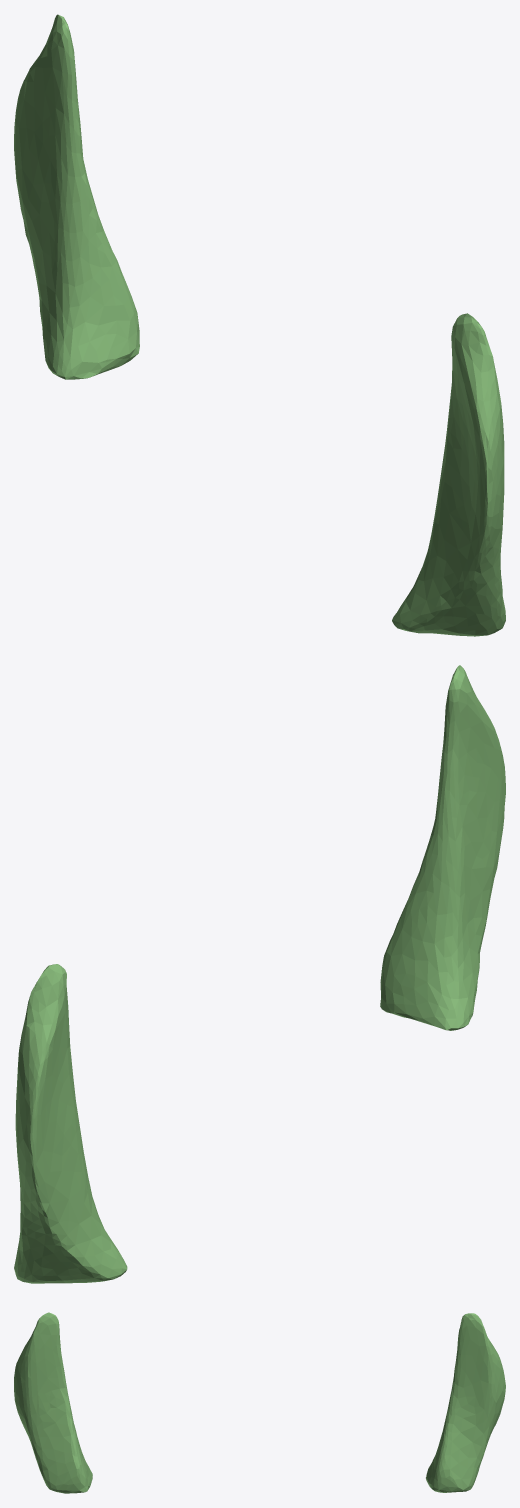
3 renders of one model, top to bottom at view 1: azimuth 30°, elevation 25°; view 2: azimuth 150°, elevation 25°; view 3: azimuth 270°, elevation 25°, orthographic. The views are drawn at different scales.
Visible parts, largest first — view 1: 1084.obj; view 2: 1084.obj; view 3: 1084.obj.
Boxes of the visible parts, left/top/right/bottom form: 1084.obj: left=14, top=14, right=505, bottom=636; 1084.obj: left=14, top=665, right=505, bottom=1283; 1084.obj: left=14, top=1312, right=505, bottom=1493.
Size of the model in its own units: 714 by 2538 by 6598.
